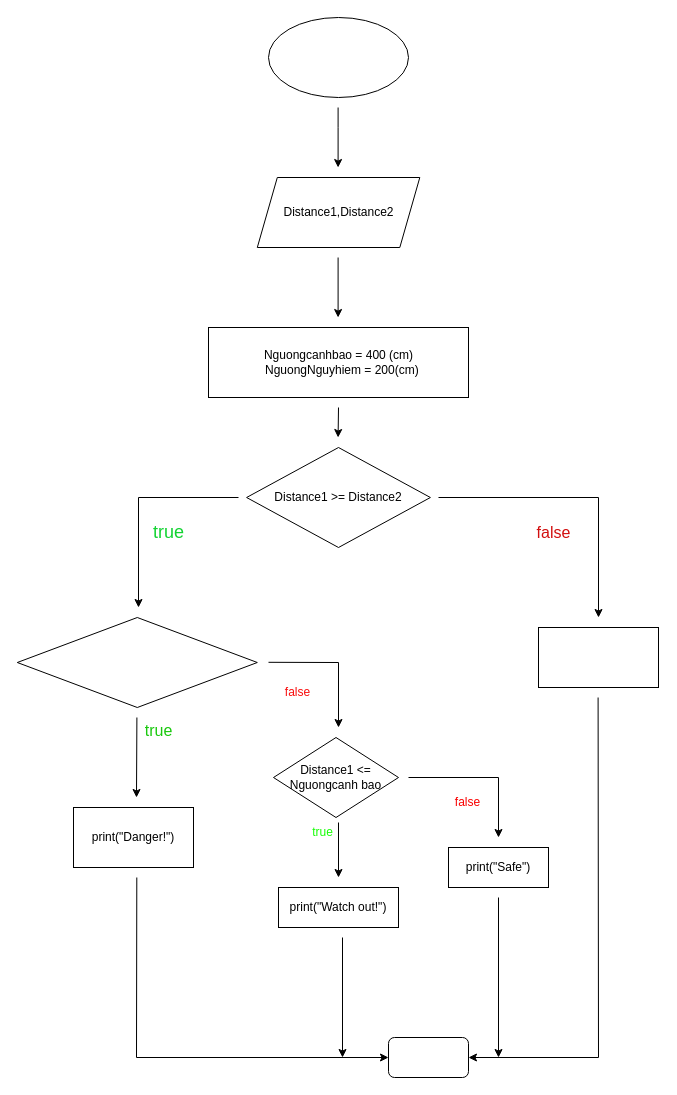
Image size: 677x1095. Some labels were removed from this diagram. Here are the shapes that lost their labels. From the top down, the box of each, then its label:
(268, 16, 408, 98): Start
(16, 616, 257, 708): Distance1 < NguongNguyHiem
(538, 626, 658, 688): print("Safe!")
(388, 1036, 468, 1078): End
